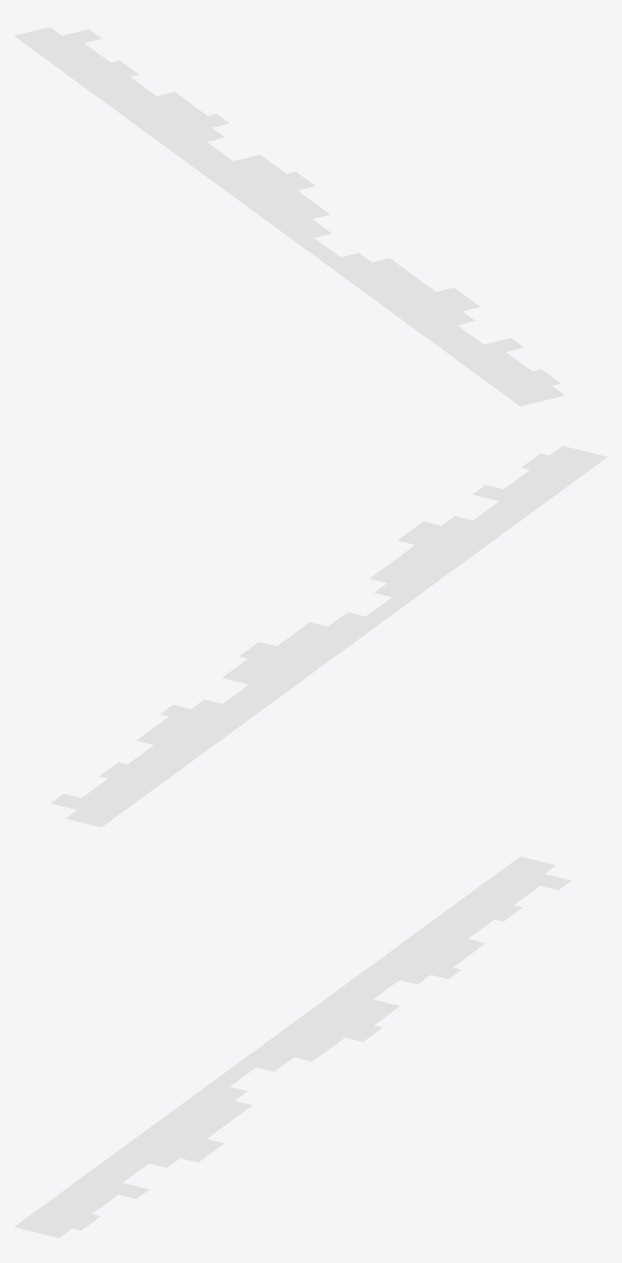
Rendered from Water_Edge_Generic.fbx.
3 renders of one model, top to bottom at view 1: azimuth 30°, elevation 25°; view 2: azimuth 150°, elevation 25°; view 3: azimuth 330°, elevation 25°, orthographic.
Visible parts, largest first — view 1: G_WaterEdge; view 2: G_WaterEdge; view 3: G_WaterEdge.
Part boxes in pixels (bbox=[...]): G_WaterEdge: bbox=[14, 27, 564, 406]; G_WaterEdge: bbox=[50, 446, 607, 827]; G_WaterEdge: bbox=[14, 856, 571, 1237].
Bounding box in the file's own units: 30 × 6.66e-14 × 300.
Materials: 1 (1 with a texture image).
